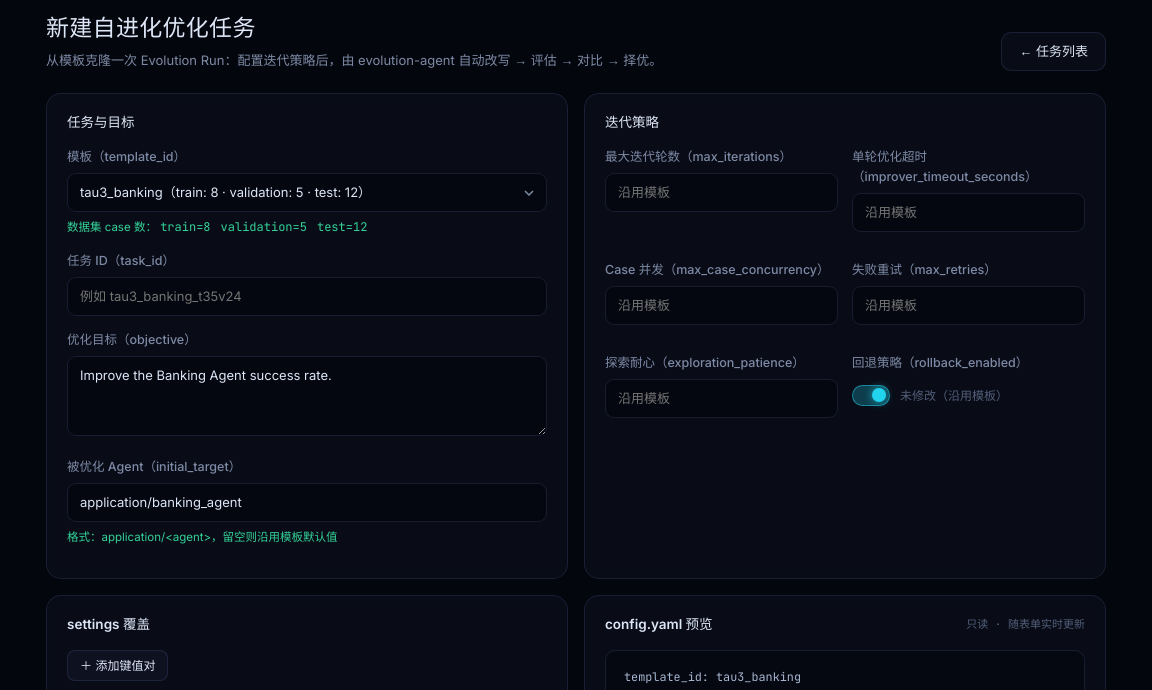
Test: EvolutionCreatePage › renders a live yaml preview of the payload
The width and height of the screenshot is (1152, 690).
Type "yaml_task" into the field with placeholder "例如 tau3_banking_t35v24" at coordinates (307, 297), box [67, 277, 547, 316]
(page scrolled)
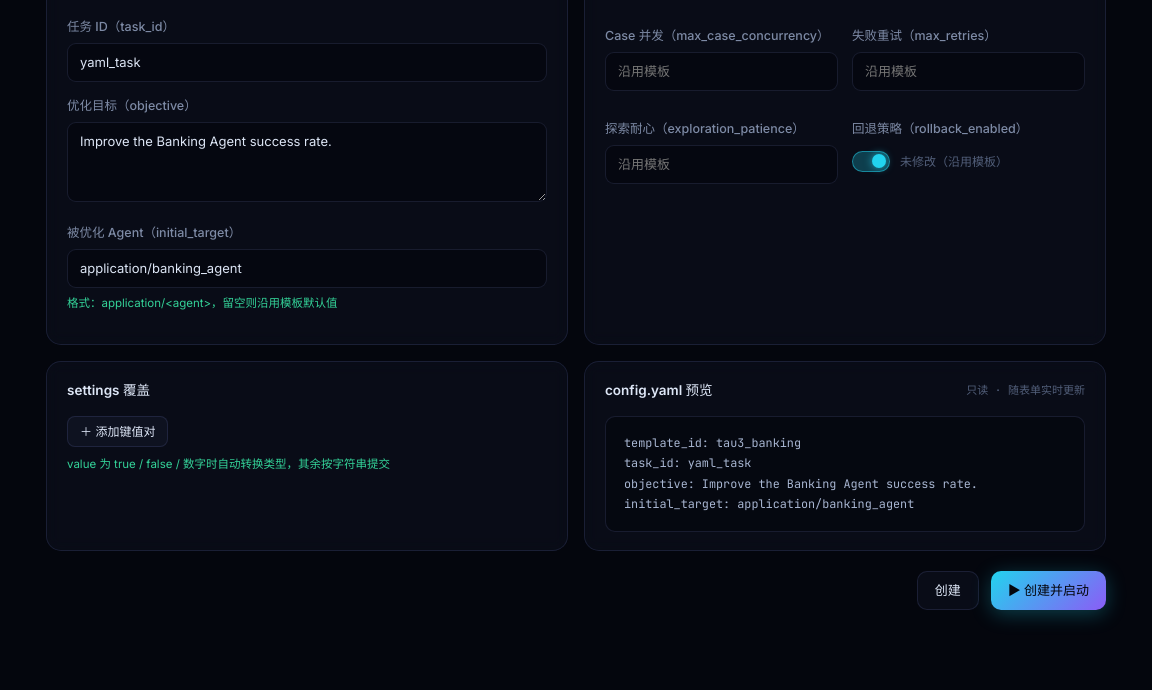
Expected: the text with test id "yaml-preview" shows "template_id: tau3_banking", [624, 434, 978, 512]
Expected: the text with test id "yaml-preview" shows "task_id: yaml_task", [624, 434, 978, 512]
